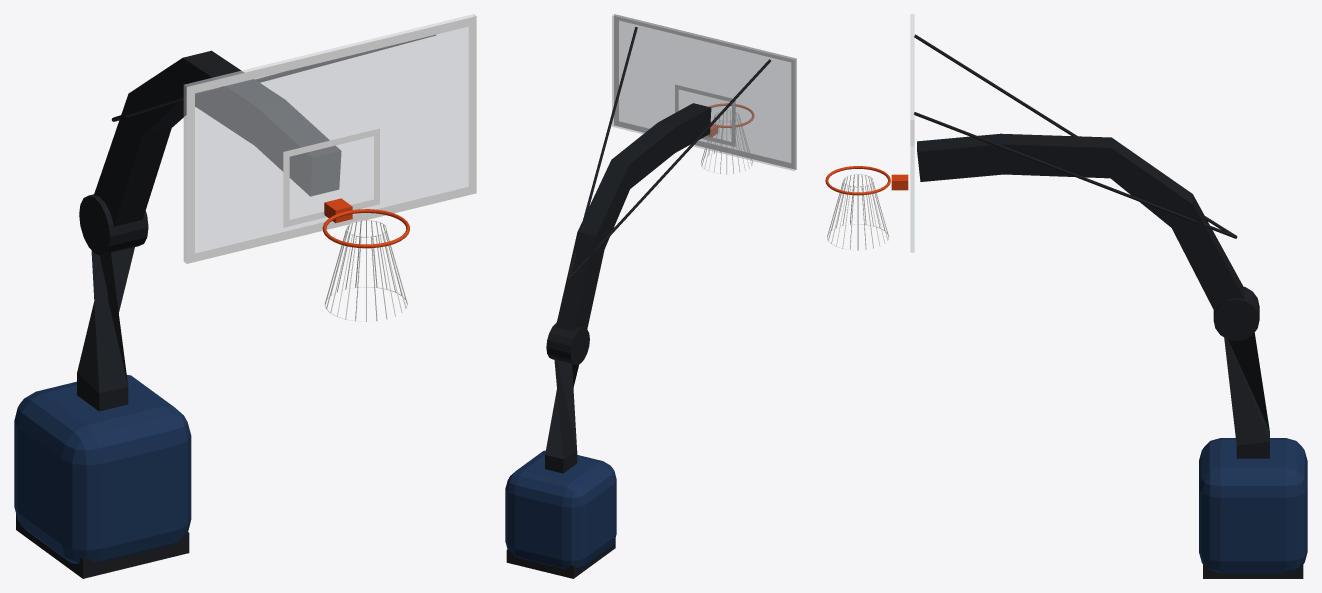
Rendered from hoop2.glb.
The picture shows the model from 3 angles, left to right: view 1: azimuth 30°, elevation 25°; view 2: azimuth 150°, elevation 25°; view 3: azimuth 270°, elevation 25°; orthographic projection. The views are drawn at different scales.
Visible parts, largest first — view 1: Backboard_Glass, Pad, Stand_Arm, Frame, Net, Stand_Pivot, Stand_BasePlate, Rim; view 2: Backboard_Glass, Stand_Arm, Pad, Frame, Stand_Pivot, Stand_Rod_-1, Stand_BasePlate, Stand_Rod_1, Net; view 3: Stand_Arm, Pad, Stand_Pivot, Net, Stand_Rod_1, Backboard_Glass, Stand_Rod_-1, Stand_BasePlate.
Boxes of the visible parts, x1=… form: Backboard_Glass: x1=183, y1=14, x2=475, y2=263; Pad: x1=14, y1=375, x2=191, y2=563; Stand_Arm: x1=77, y1=50, x2=341, y2=411; Frame: x1=186, y1=16, x2=476, y2=263; Net: x1=324, y1=220, x2=407, y2=321; Stand_Pivot: x1=79, y1=194, x2=148, y2=255; Stand_BasePlate: x1=16, y1=514, x2=189, y2=578; Rim: x1=322, y1=209, x2=409, y2=248; Backboard_Glass: x1=612, y1=14, x2=796, y2=170; Stand_Arm: x1=545, y1=103, x2=711, y2=473; Pad: x1=505, y1=450, x2=616, y2=569; Frame: x1=614, y1=14, x2=796, y2=169; Stand_Pivot: x1=546, y1=323, x2=589, y2=365; Stand_Rod_-1: x1=568, y1=59, x2=770, y2=280; Stand_BasePlate: x1=506, y1=538, x2=615, y2=578; Stand_Rod_1: x1=567, y1=27, x2=637, y2=280; Net: x1=700, y1=110, x2=753, y2=174; Stand_Arm: x1=917, y1=133, x2=1269, y2=458; Pad: x1=1199, y1=438, x2=1307, y2=573; Stand_Pivot: x1=1213, y1=286, x2=1259, y2=340; Net: x1=827, y1=174, x2=889, y2=250; Stand_Rod_1: x1=914, y1=112, x2=1237, y2=238; Backboard_Glass: x1=910, y1=14, x2=914, y2=252; Stand_Rod_-1: x1=914, y1=34, x2=1236, y2=235; Stand_BasePlate: x1=1203, y1=562, x2=1303, y2=578.
Bounding box in the file's own units: 6 × 13 × 11.53.
